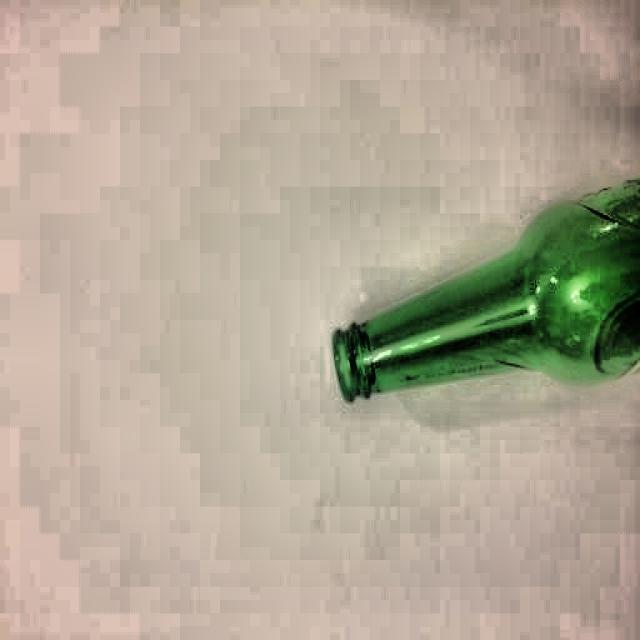glass: (329, 178, 640, 408)
